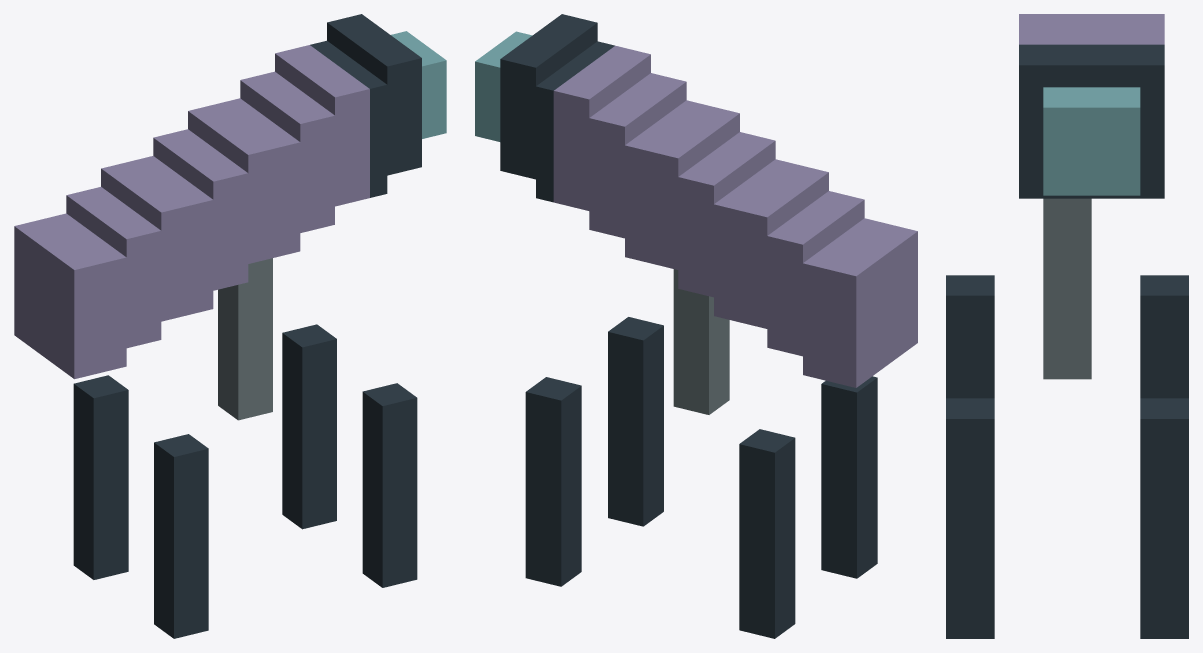
File: astronomy-01.glb
The picture shows the model from 3 angles, left to right: view 1: azimuth 30°, elevation 25°; view 2: azimuth 150°, elevation 25°; view 3: azimuth 270°, elevation 25°; orthographic projection. The views are drawn at different scales.
Visible parts, largest first — view 1: Observatory telescope; view 2: Observatory telescope; view 3: Observatory telescope.
Boxes of the visible parts, x1,y1,x2,y2 form: Observatory telescope: [14, 14, 446, 638]; Observatory telescope: [475, 14, 917, 638]; Observatory telescope: [946, 14, 1188, 638].
Size of the model in its own units: 1.76 by 2.16 by 0.8.
